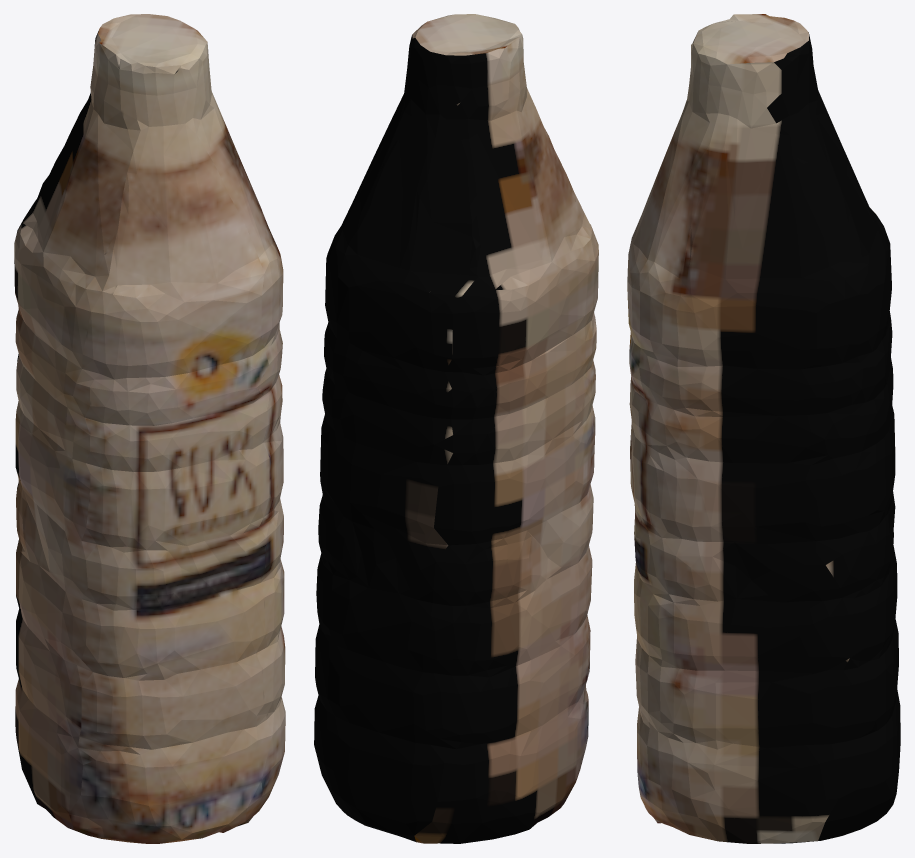
Rendered from textured.baked.glb.
3 views of the same model, side by side, from view 1: azimuth 30°, elevation 25°; view 2: azimuth 150°, elevation 25°; view 3: azimuth 270°, elevation 25° (orthographic).
Parts seen in each view (by area): view 1: remeshed.obj; view 2: remeshed.obj; view 3: remeshed.obj.
Part boxes in pixels (bbox=[...]): remeshed.obj: bbox=[14, 14, 285, 843]; remeshed.obj: bbox=[314, 14, 598, 843]; remeshed.obj: bbox=[627, 14, 900, 843].
Size of the model in its own units: 0.06 by 0.2015 by 0.0651.
1 material, 1 textured.
